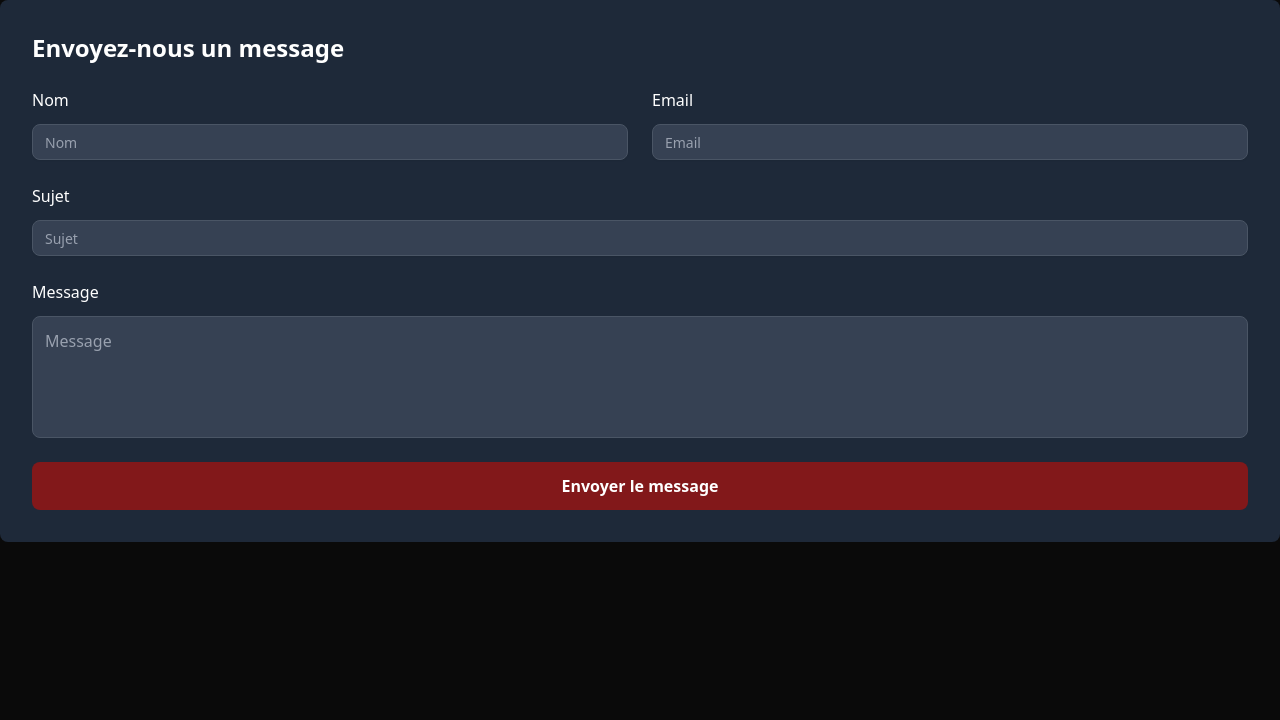
Scenario: ContactForm › should validate nom required
The width and height of the screenshot is (1280, 720).
Click the button "Envoyer le message": (640, 486) [32,462,1248,510]
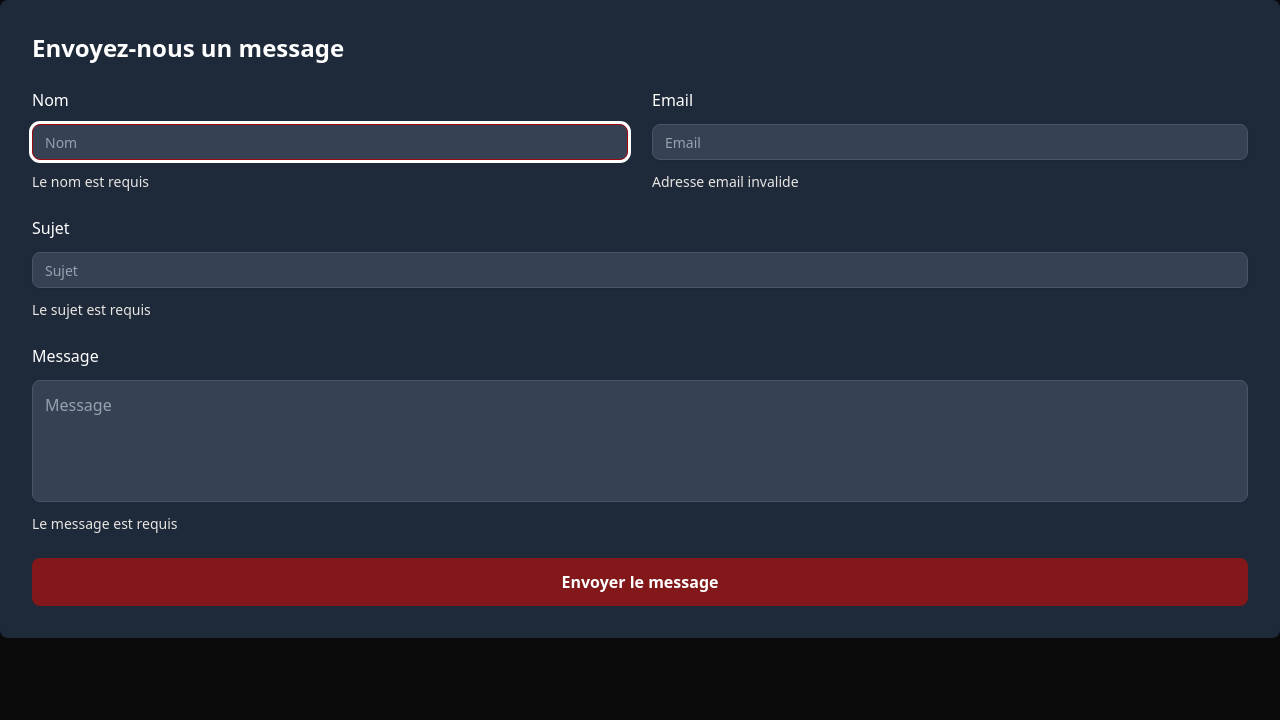
Now the text "Le nom est requis" is shown, box [32,172,149,191]
